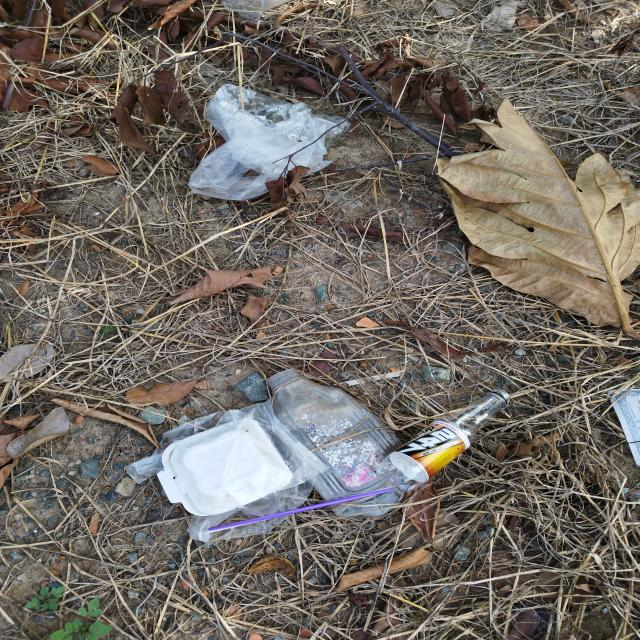bag: (188, 83, 352, 201)
bottle: (266, 368, 404, 519), (376, 388, 510, 496)
drinking straw: (208, 487, 394, 533)
foam box: (156, 418, 294, 516)
